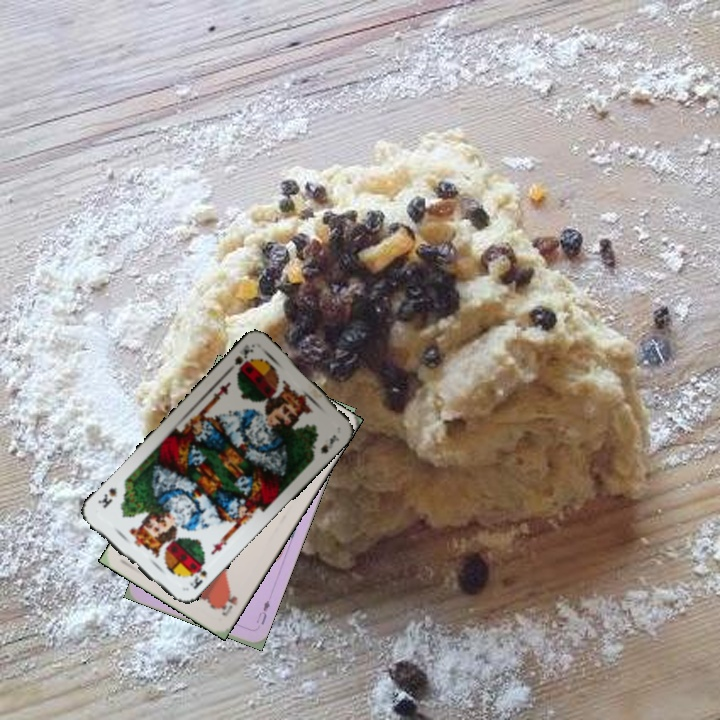EU: (252, 596, 273, 632)
HO: (215, 587, 240, 619)
SK: (223, 340, 256, 377), (186, 559, 209, 592)
